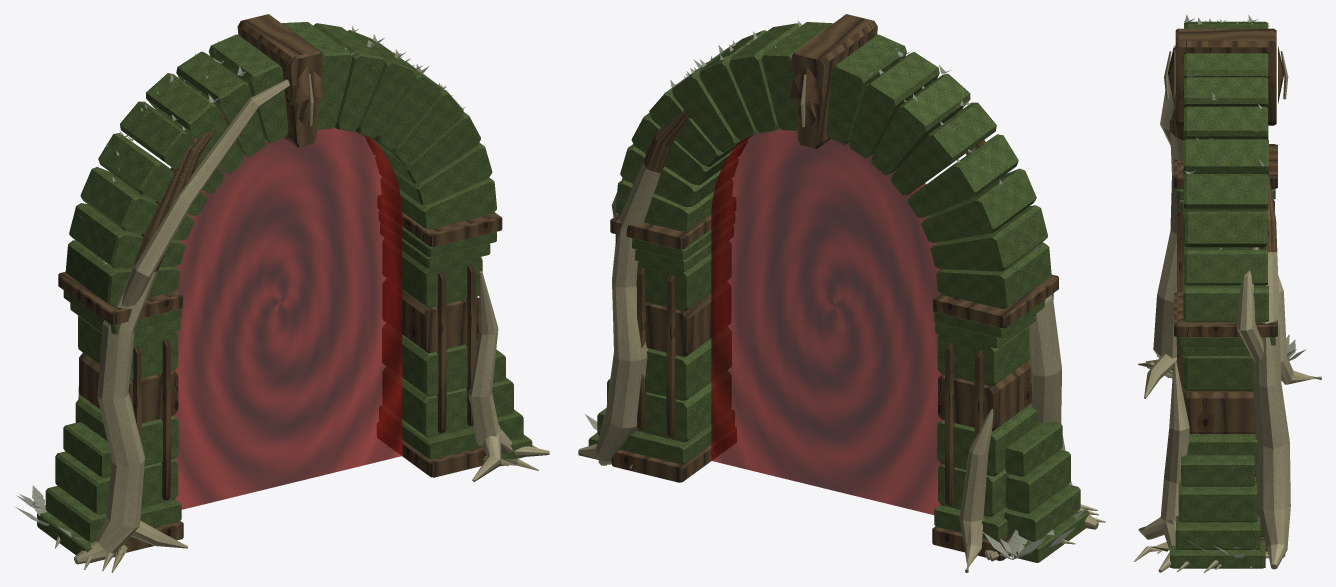
Rendered from bark-gate.glb.
The picture shows the model from 3 angles, left to right: view 1: azimuth 30°, elevation 25°; view 2: azimuth 150°, elevation 25°; view 3: azimuth 270°, elevation 25°; orthographic projection. The views are drawn at different scales.
Visible parts, largest first — view 1: gate_masonry, gate_surface, gate_roots, gate_moss; view 2: gate_masonry, gate_surface, gate_roots, gate_moss; view 3: gate_masonry, gate_roots, gate_moss.
Part boxes in pixels (x1,y1,x2,y2): gate_masonry: [37, 14, 532, 562]; gate_surface: [174, 127, 402, 509]; gate_roots: [55, 74, 549, 572]; gate_moss: [15, 26, 465, 540]; gate_masonry: [588, 14, 1089, 562]; gate_surface: [711, 128, 942, 514]; gate_roots: [578, 58, 1105, 572]; gate_moss: [585, 20, 1085, 559]; gate_masonry: [1168, 21, 1284, 568]; gate_roots: [1134, 45, 1321, 572]; gate_moss: [1182, 14, 1305, 557].
Bounding box in the file's own units: 7.15 × 6.34 × 2.51.
4 materials, 4 textured.
